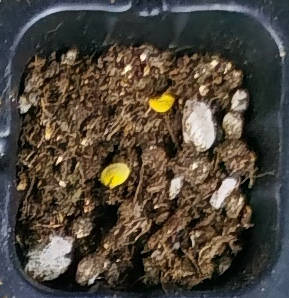chilli seed: (99, 161, 130, 188), (147, 93, 176, 113)
